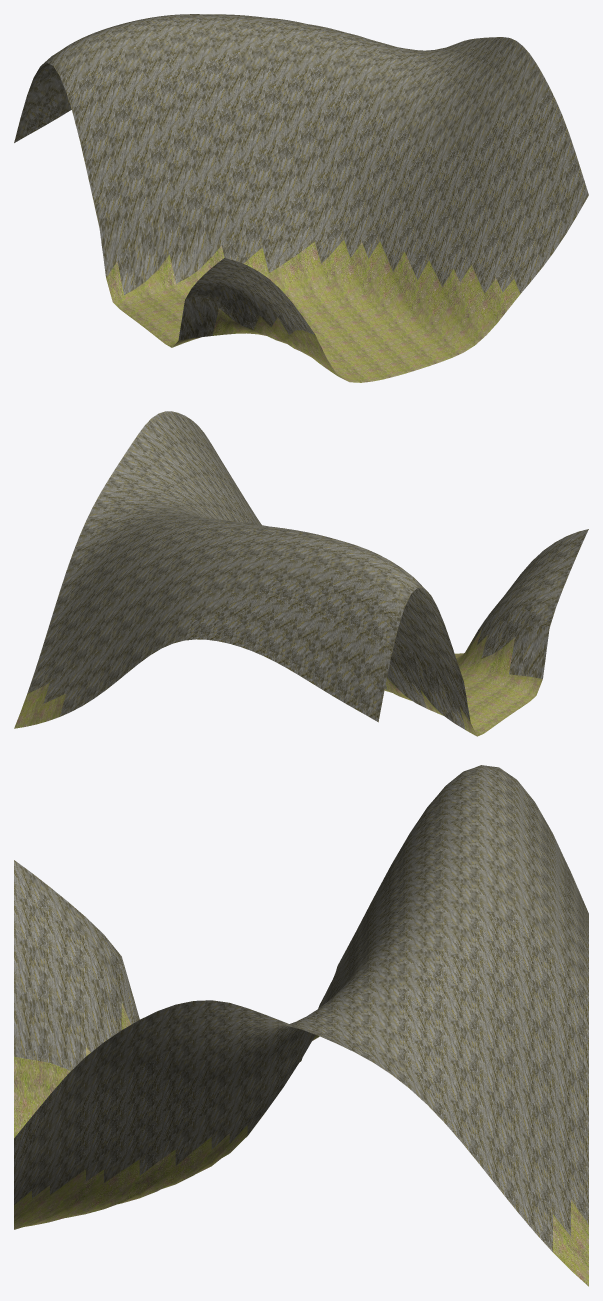
File: chunk_1_0.glb
3 renders of one model, top to bottom at view 1: azimuth 30°, elevation 25°; view 2: azimuth 150°, elevation 25°; view 3: azimuth 270°, elevation 25°, orthographic. The views are drawn at different scales.
Parts seen in each view (by area): view 1: chunk_1_0-col; view 2: chunk_1_0-col; view 3: chunk_1_0-col.
Boxes of the visible parts, x1,y1,x2,y2 form: chunk_1_0-col: (14,14,588,382); chunk_1_0-col: (14,411,588,736); chunk_1_0-col: (14,765,588,1286).
Bounding box in the file's own units: 64 × 41.95 × 64.
Materials: 2 (2 with a texture image).
